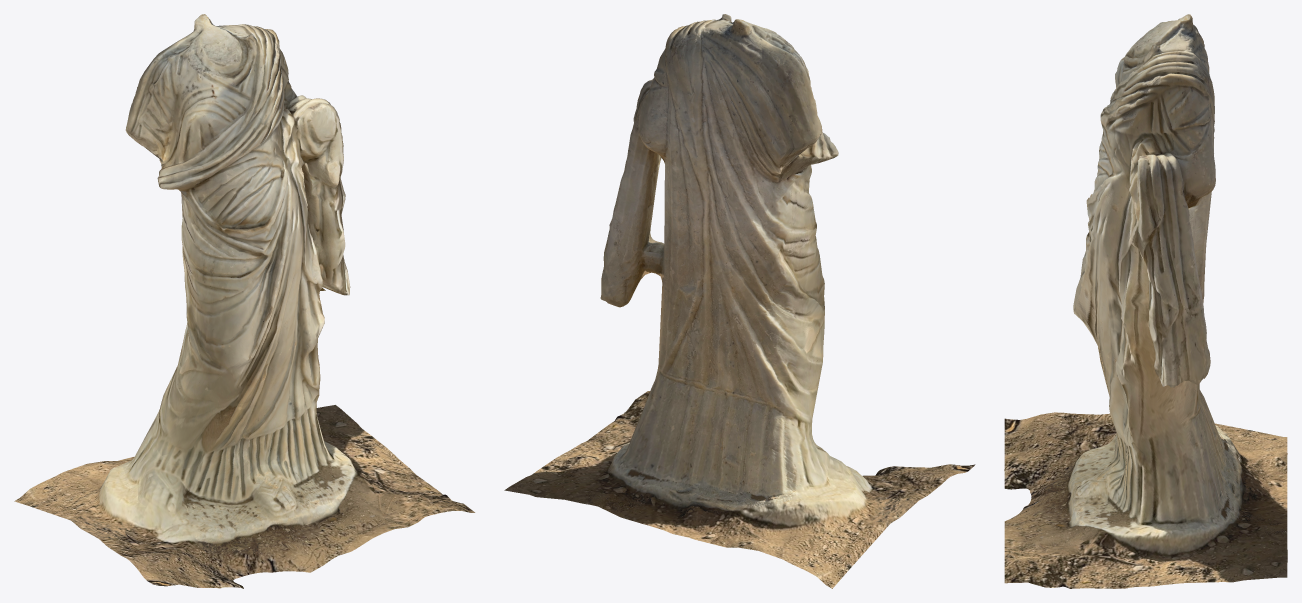
File: roman_togatus_statue__byrsa_hill_cartha_-_opt.glb
3 views of the same model, side by side, from view 1: azimuth 30°, elevation 25°; view 2: azimuth 150°, elevation 25°; view 3: azimuth 270°, elevation 25° (orthographic). The views are drawn at different scales.
Visible parts, largest first — view 1: Object_2; view 2: Object_2; view 3: Object_2.
Boxes of the visible parts, bbox=[...] form: Object_2: bbox=[14, 14, 475, 588]; Object_2: bbox=[504, 14, 975, 588]; Object_2: bbox=[1004, 14, 1287, 588].
Bounding box in the file's own units: 0.5709 × 0.8401 × 0.4321.
Materials: 1 (1 with a texture image).
